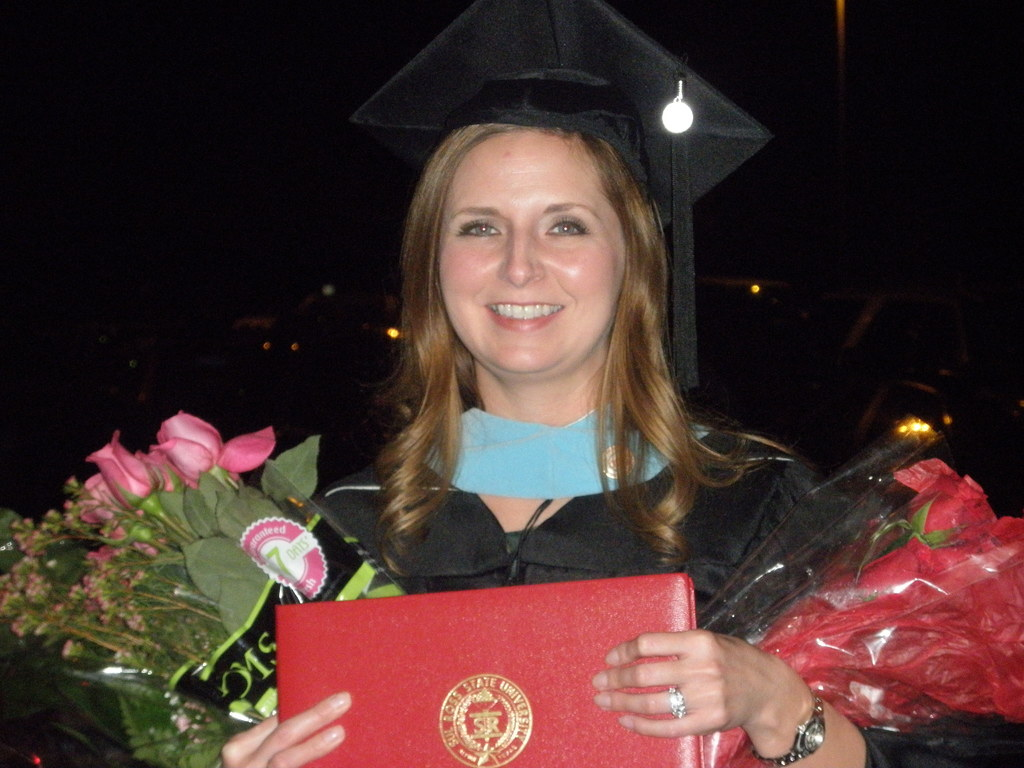Human-face: (439, 130, 625, 375)
